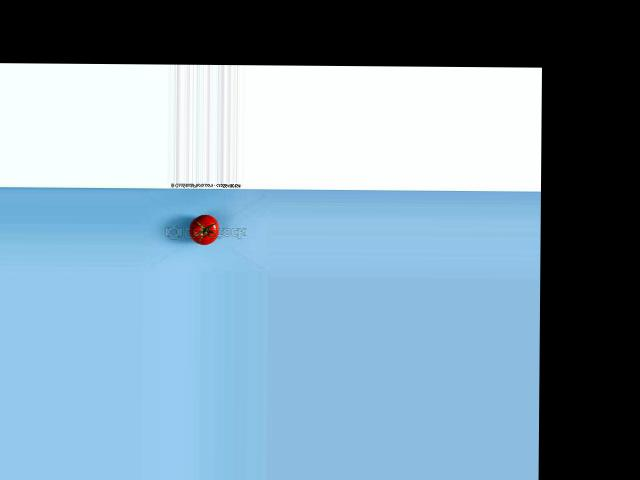tomato: (190, 213, 219, 244)
